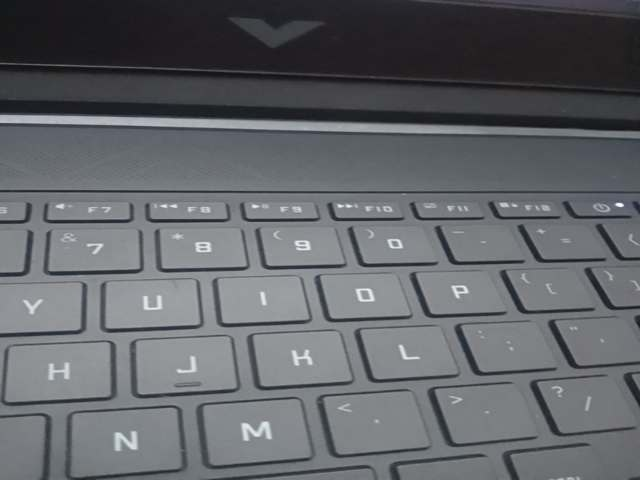pothole: (104, 302, 313, 462), (105, 266, 314, 425), (104, 403, 313, 480), (536, 403, 640, 480)
